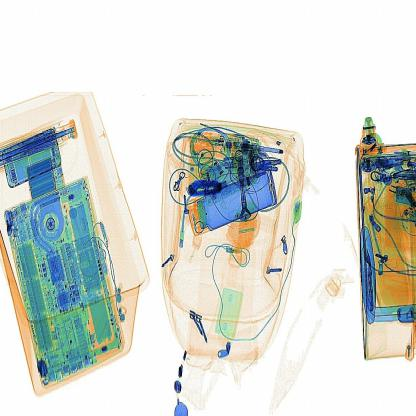scissors: (180, 170, 232, 198)
